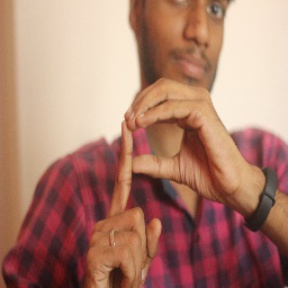P: (81, 76, 236, 288)
